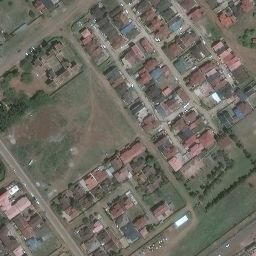tree: (21, 71, 32, 83), (144, 154, 153, 163)
